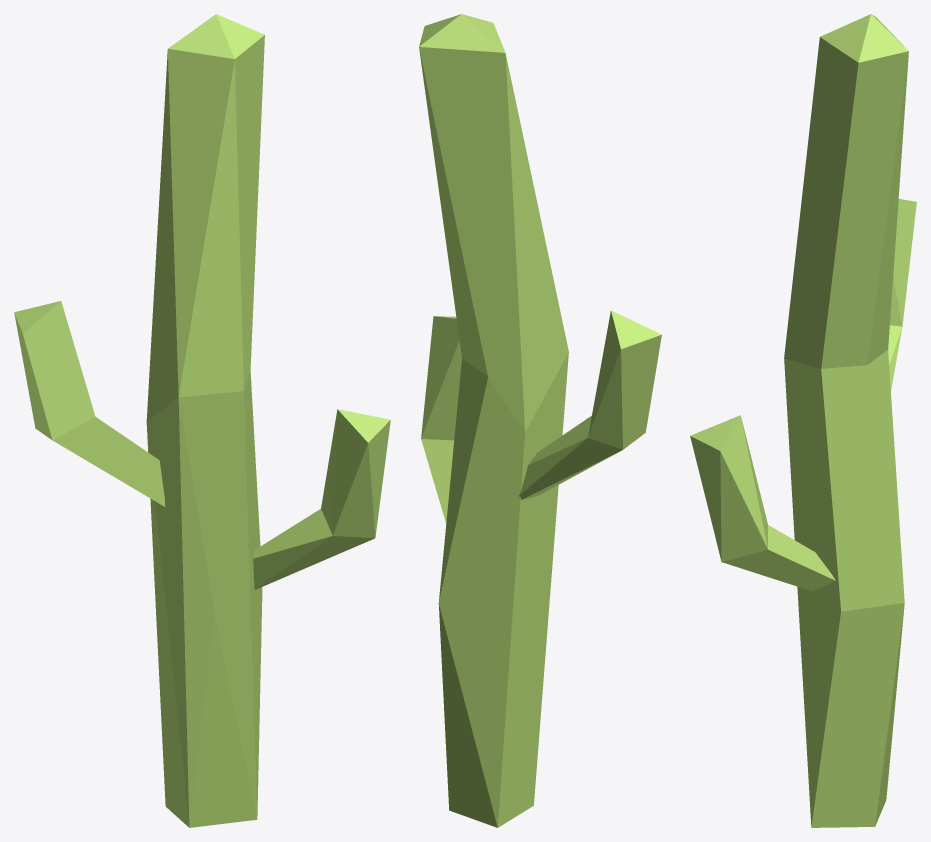
File: Cactus_b_m_BT_05.fbx
The picture shows the model from 3 angles, left to right: view 1: azimuth 30°, elevation 25°; view 2: azimuth 150°, elevation 25°; view 3: azimuth 270°, elevation 25°; orthographic projection. The views are drawn at different scales.
Parts seen in each view (by area): view 1: Cactus_b_m_BT_05; view 2: Cactus_b_m_BT_05; view 3: Cactus_b_m_BT_05.
Boxes of the visible parts, box(x1,y1,x2,y2) form: Cactus_b_m_BT_05: box(14, 14, 390, 827); Cactus_b_m_BT_05: box(419, 14, 661, 827); Cactus_b_m_BT_05: box(690, 14, 916, 827).
Bounding box in the file's own units: 109 × 276 × 70.32.
